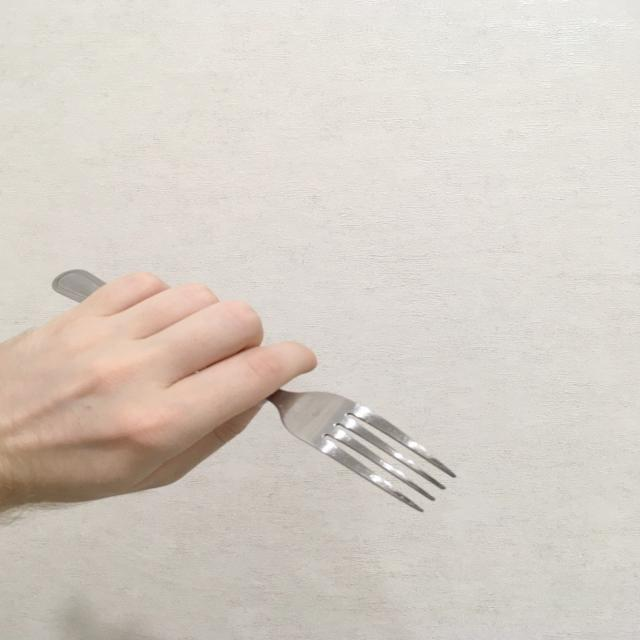fork: (49, 270, 459, 513)
